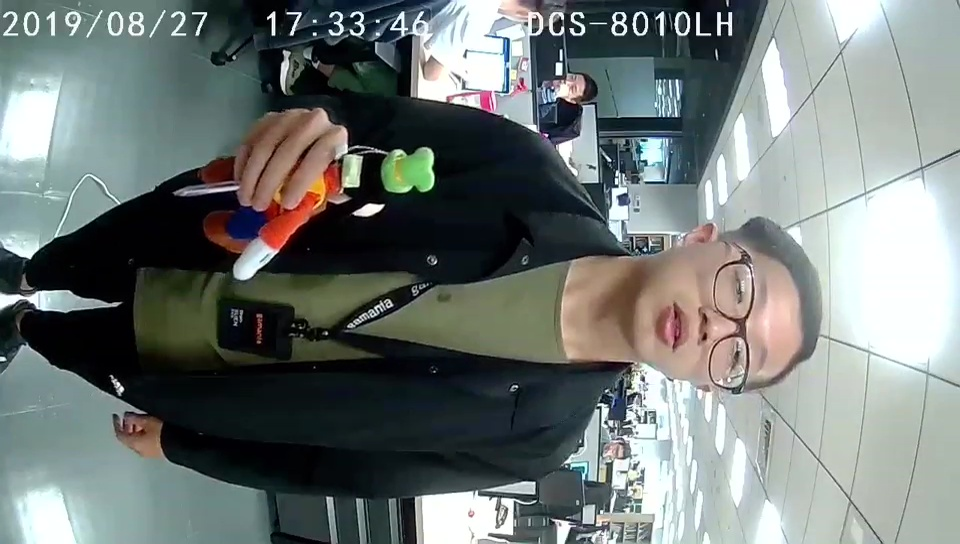goofy: (204, 144, 435, 281)
